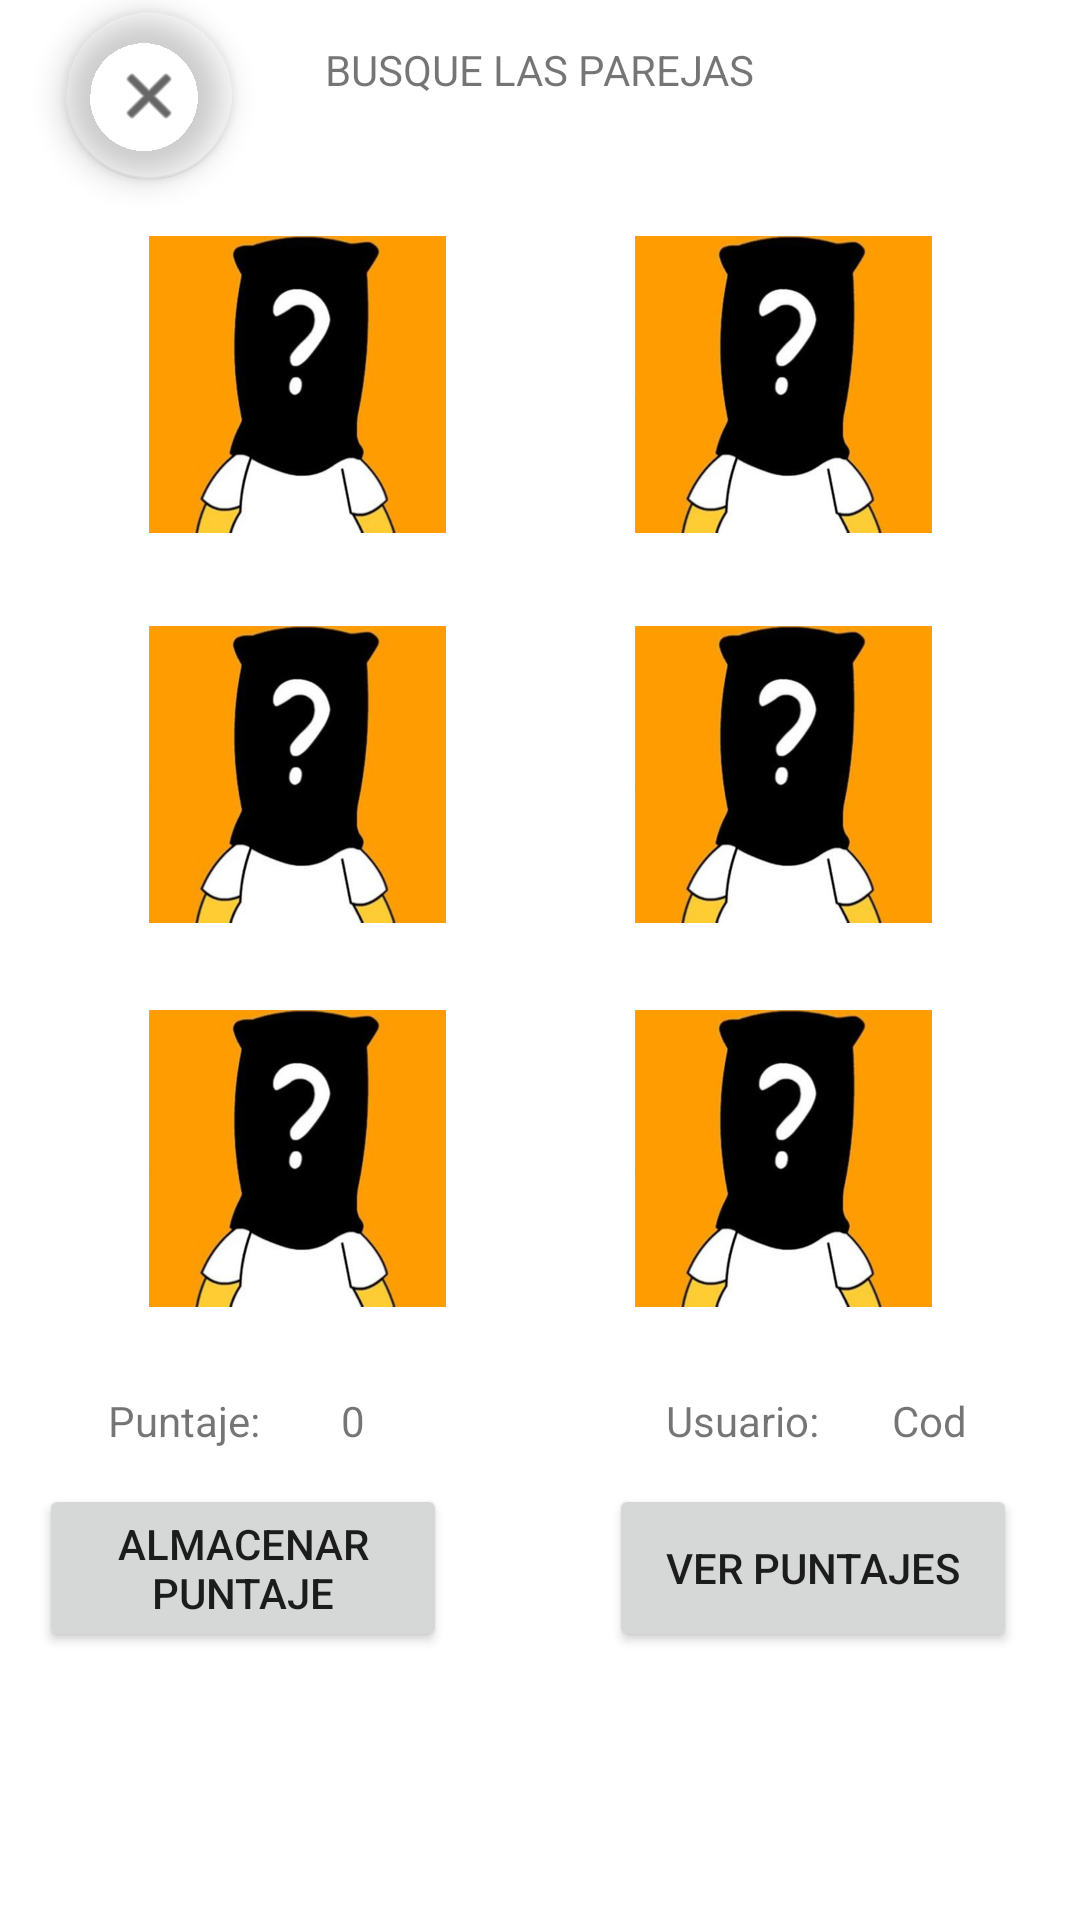

Icons on this 1080px x 1920px Android screen, each with its box as (x1, y1, x2, y2):
close clear cancel: (65, 20, 230, 180)
